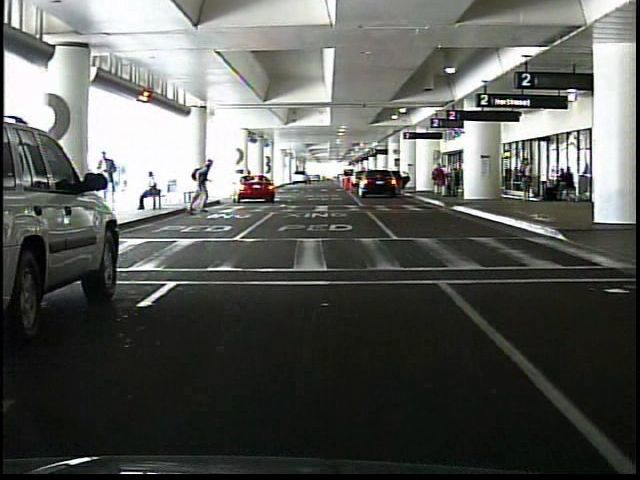person: (184, 159, 219, 215), (98, 148, 121, 217), (137, 171, 163, 212), (523, 156, 537, 200), (431, 163, 448, 199), (455, 163, 456, 197)
